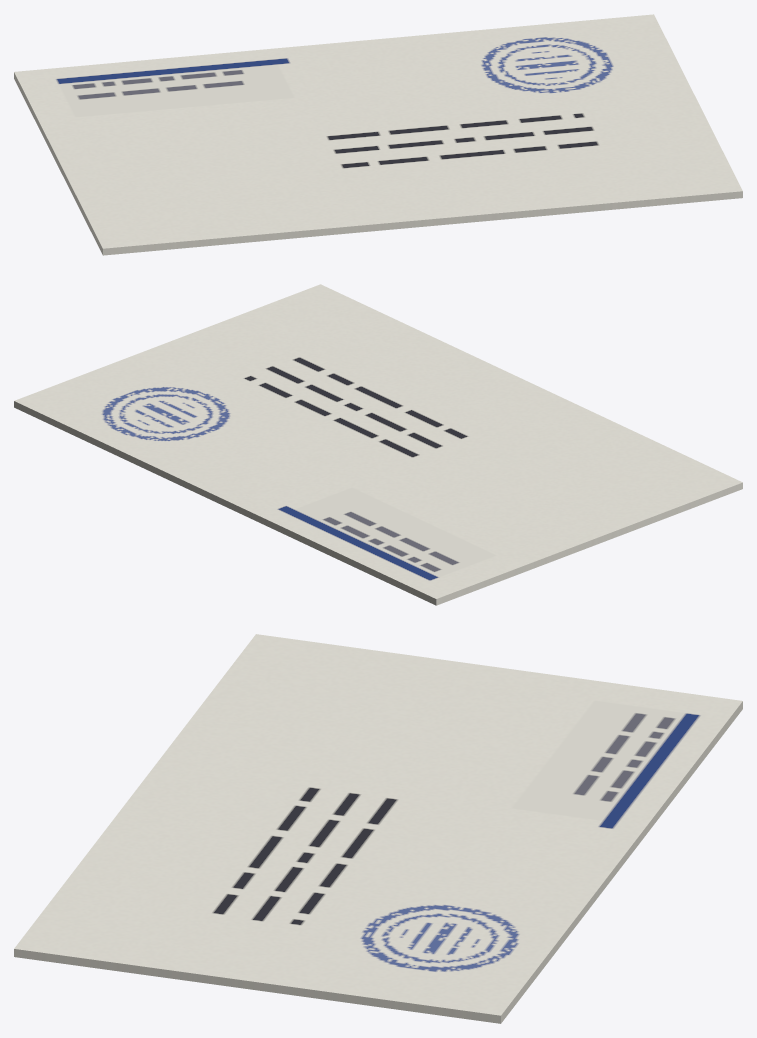
Rendered from escena.casa.carta_tribunal.fbx.
3 renders of one model, top to bottom at view 1: azimuth 30°, elevation 25°; view 2: azimuth 150°, elevation 25°; view 3: azimuth 270°, elevation 25°, orthographic. The views are drawn at different scales.
Parts seen in each view (by area): view 1: Carta del tribunal; view 2: Carta del tribunal; view 3: Carta del tribunal.
Boxes of the visible parts, <box> form: Carta del tribunal: <box>14,14,742,255</box>; Carta del tribunal: <box>14,284,742,605</box>; Carta del tribunal: <box>14,634,742,1023</box>.
Size of the model in its own units: 0.2998 by 0.003 by 0.242.
1 material, 1 textured.
